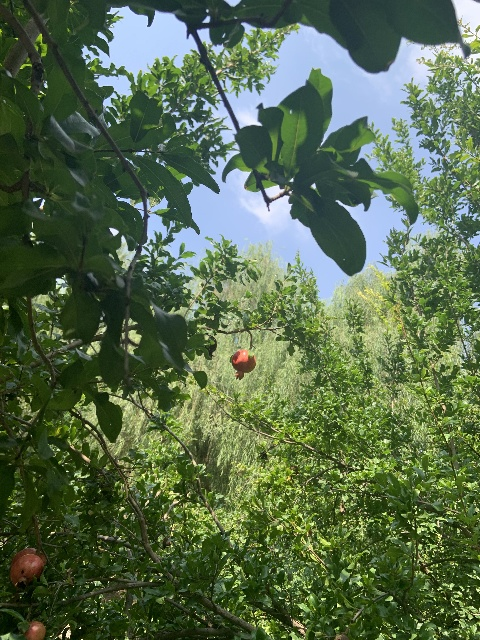ripe: (10, 554, 44, 591), (231, 349, 256, 380), (10, 547, 46, 565), (23, 621, 45, 640)
